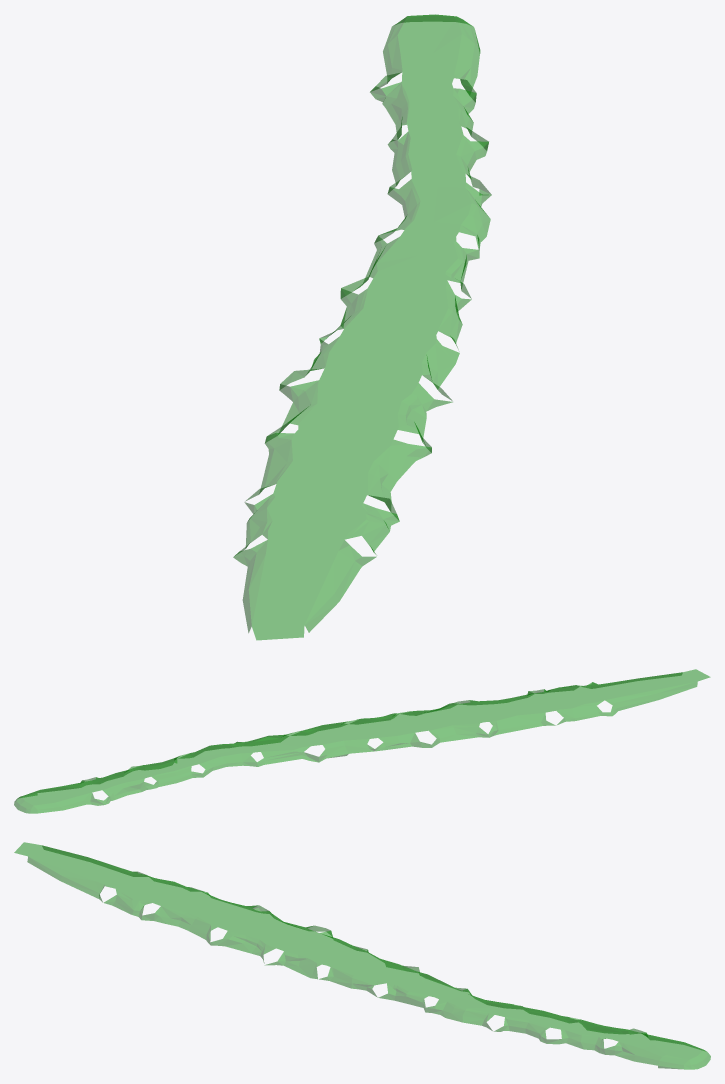
The model's file is A_soil.obj.
The picture shows the model from 3 angles, top to bottom: view 1: azimuth 30°, elevation 25°; view 2: azimuth 150°, elevation 25°; view 3: azimuth 270°, elevation 25°; orthographic projection. The views are drawn at different scales.
Bounding box in the file's own units: 211 × 6.23 × 280.
